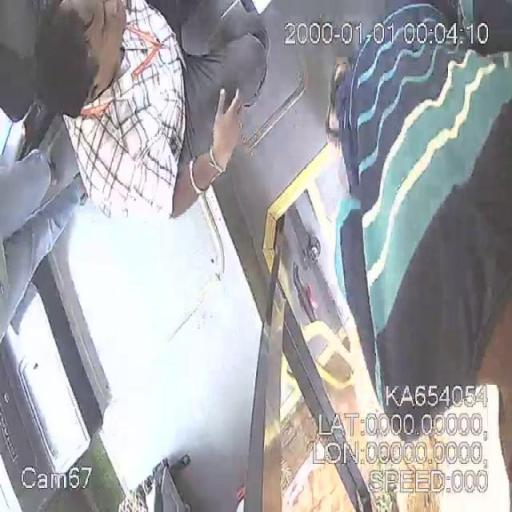persona: (329, 2, 511, 492), (22, 1, 270, 229)
